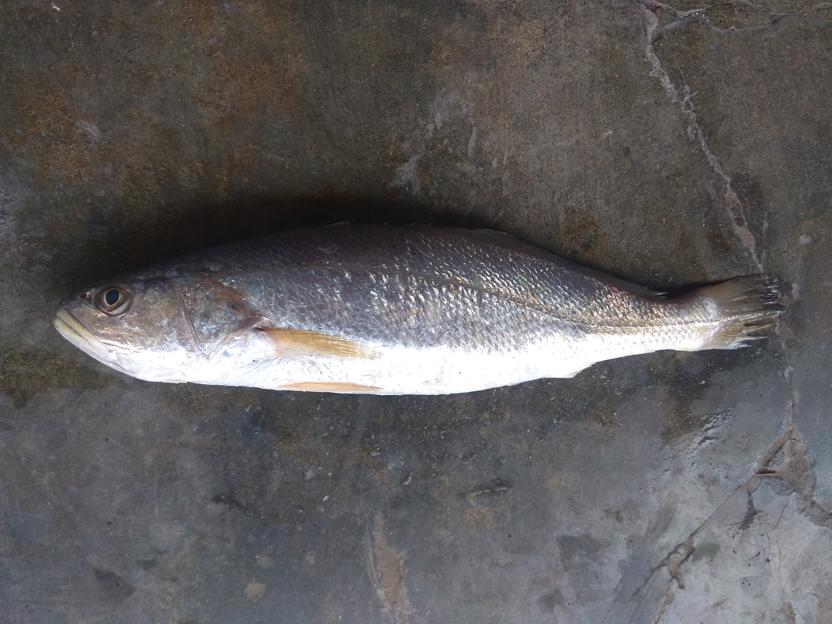Fish head: (51, 237, 258, 389)
Fish tail: (700, 272, 786, 352)
